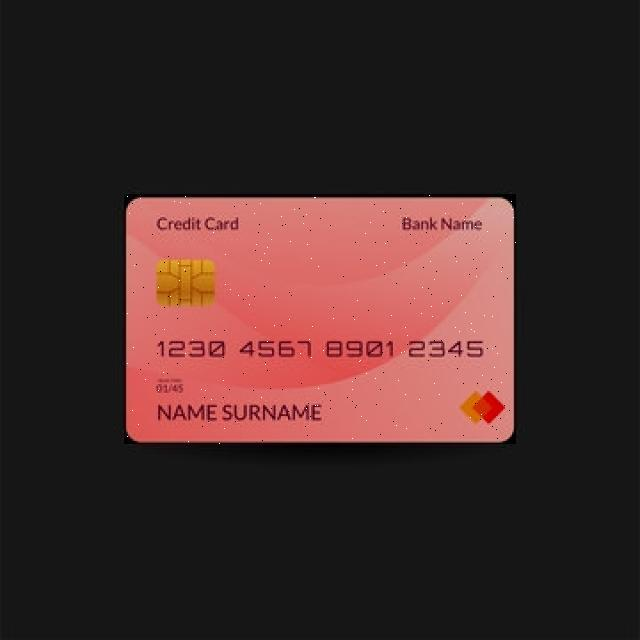payment_card: (123, 194, 516, 444)
